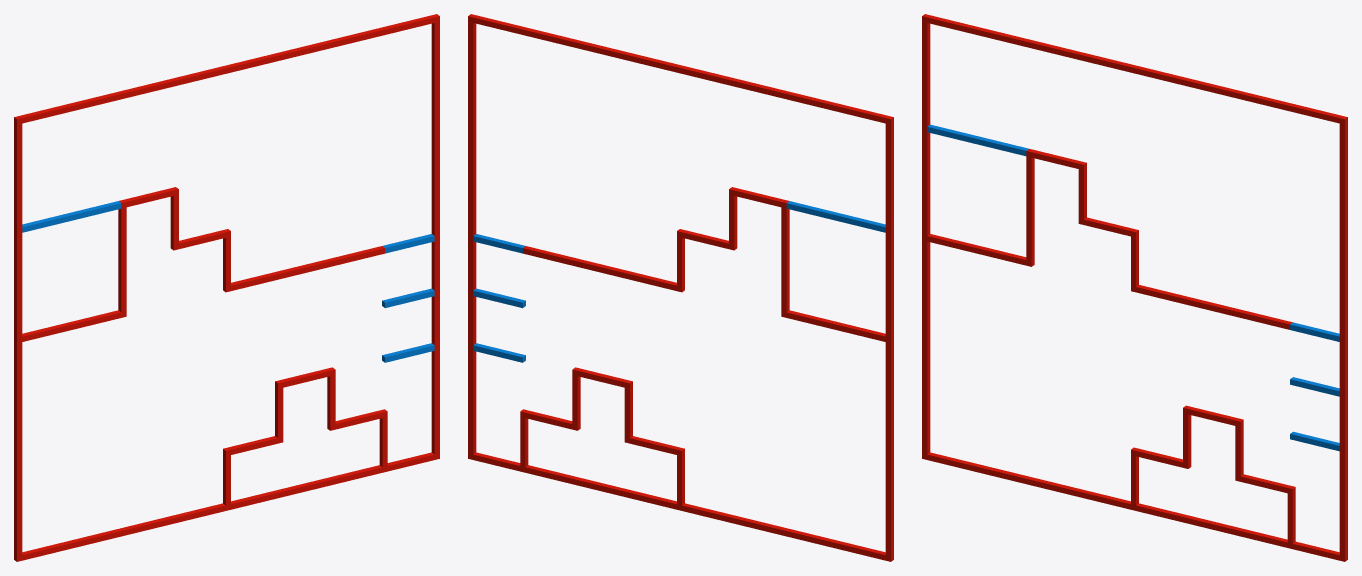
File: level_guide.fbx
3 renders of one model, left to right at view 1: azimuth 30°, elevation 25°; view 2: azimuth 150°, elevation 25°; view 3: azimuth 330°, elevation 25°, orthographic.
Parts seen in each view (by area): view 1: 立方体.001; view 2: 立方体.001; view 3: 立方体.001.
Boxes of the visible parts, left/top/right/bottom form: 立方体.001: left=14, top=14, right=439, bottom=561; 立方体.001: left=468, top=14, right=893, bottom=561; 立方体.001: left=922, top=14, right=1347, bottom=561.
Bounding box in the file's own units: 1620 × 1620 × 20.
